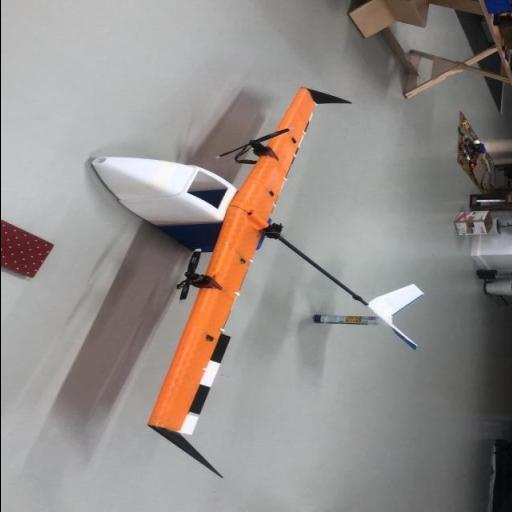uav: (94, 86, 428, 486)
